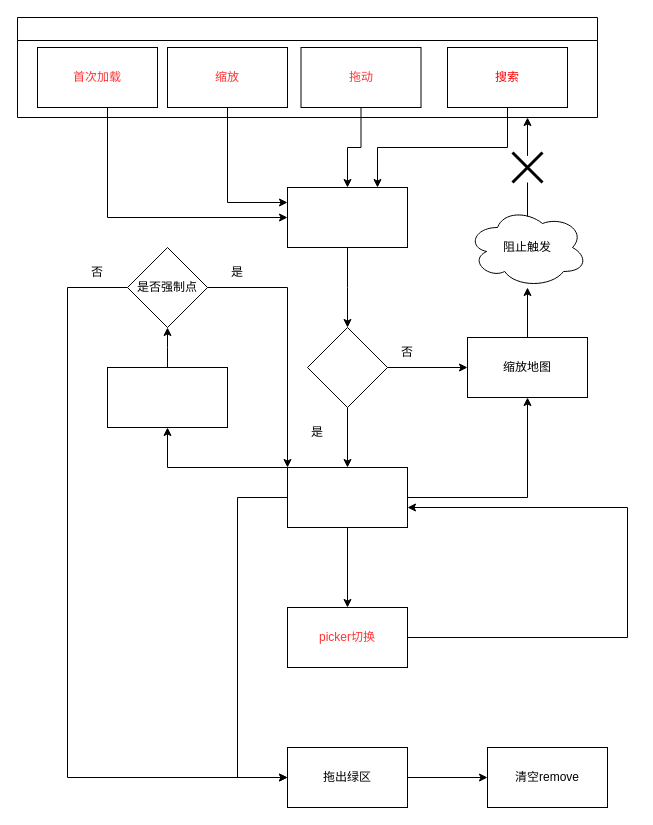
Some shapes in this 653 by 825 pixel diagram are drawn without their labels. Each missing label, with the box of its shape:
PositionPicker地图事件: (16, 16, 598, 118)
弹框显示,强制点吸附,地图绘制区域: (286, 466, 408, 528)
是否已进入绿区: (306, 326, 388, 408)
点击点: (106, 366, 228, 428)
进入绿区: (286, 186, 408, 248)
